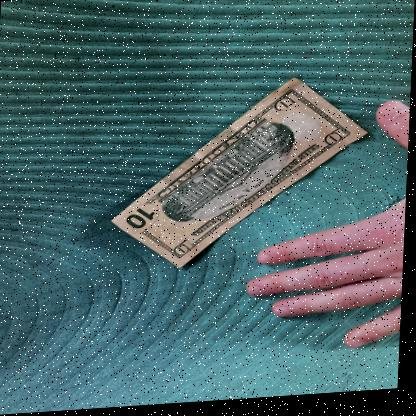ten-back: (112, 77, 365, 267)
